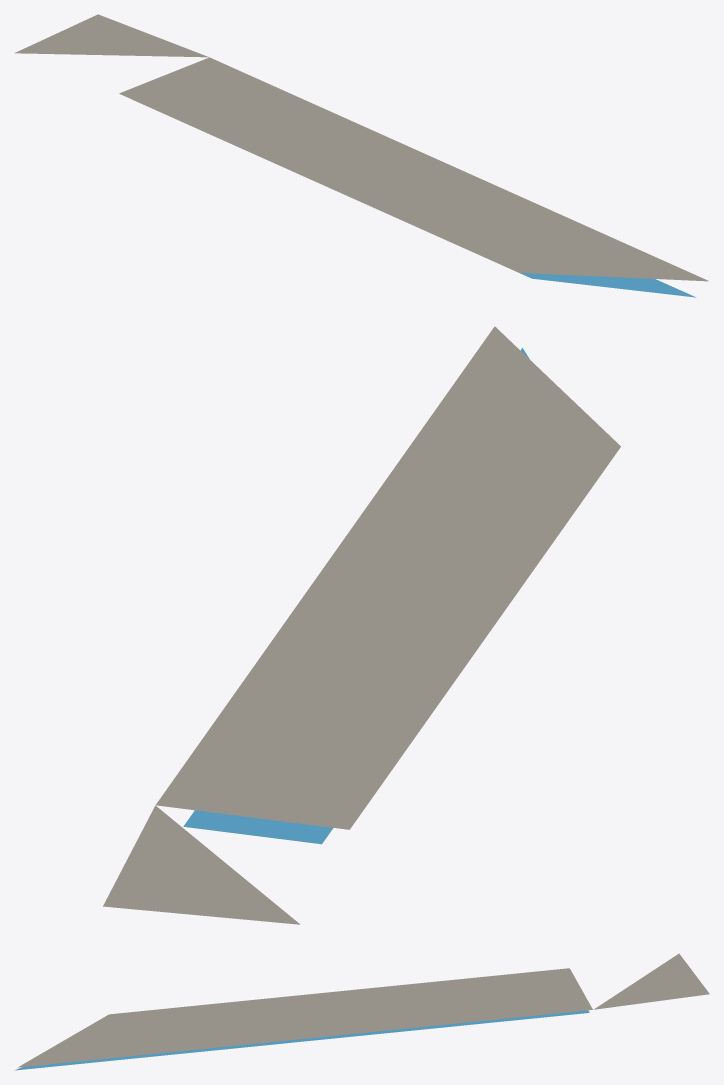
3 views of the same model, one above another, from view 1: azimuth 30°, elevation 25°; view 2: azimuth 150°, elevation 25°; view 3: azimuth 270°, elevation 25° (orthographic). The views are drawn at different scales.
Parts seen in each view (by area): view 1: estructura_terreno, estructura_agua; view 2: estructura_terreno, estructura_agua; view 3: estructura_terreno, estructura_agua.
Part boxes in pixels (<box>): estructura_terreno: <box>14,14,708,281</box>; estructura_agua: <box>140,103,696,297</box>; estructura_terreno: <box>103,326,620,924</box>; estructura_agua: <box>183,348,529,844</box>; estructura_terreno: <box>17,953,709,1067</box>; estructura_agua: <box>14,1010,589,1070</box>.
Bounding box in the file's own units: 11.19 × 0.41 × 28.83.
